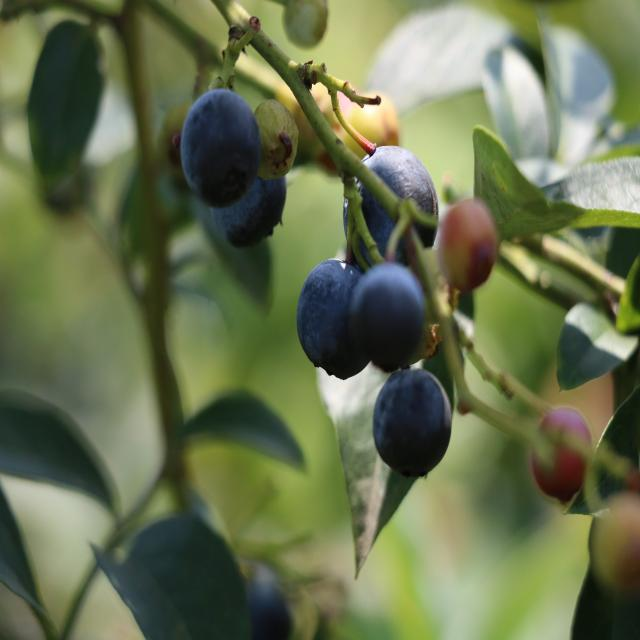blueberry: (341, 135, 441, 275), (363, 365, 458, 482), (291, 256, 373, 381), (176, 86, 263, 203), (344, 258, 429, 368), (202, 162, 302, 244)
blueberry-halfripe: (532, 406, 593, 498), (439, 192, 496, 290)
blueberry-unripe: (253, 100, 300, 181), (285, 0, 329, 53)
